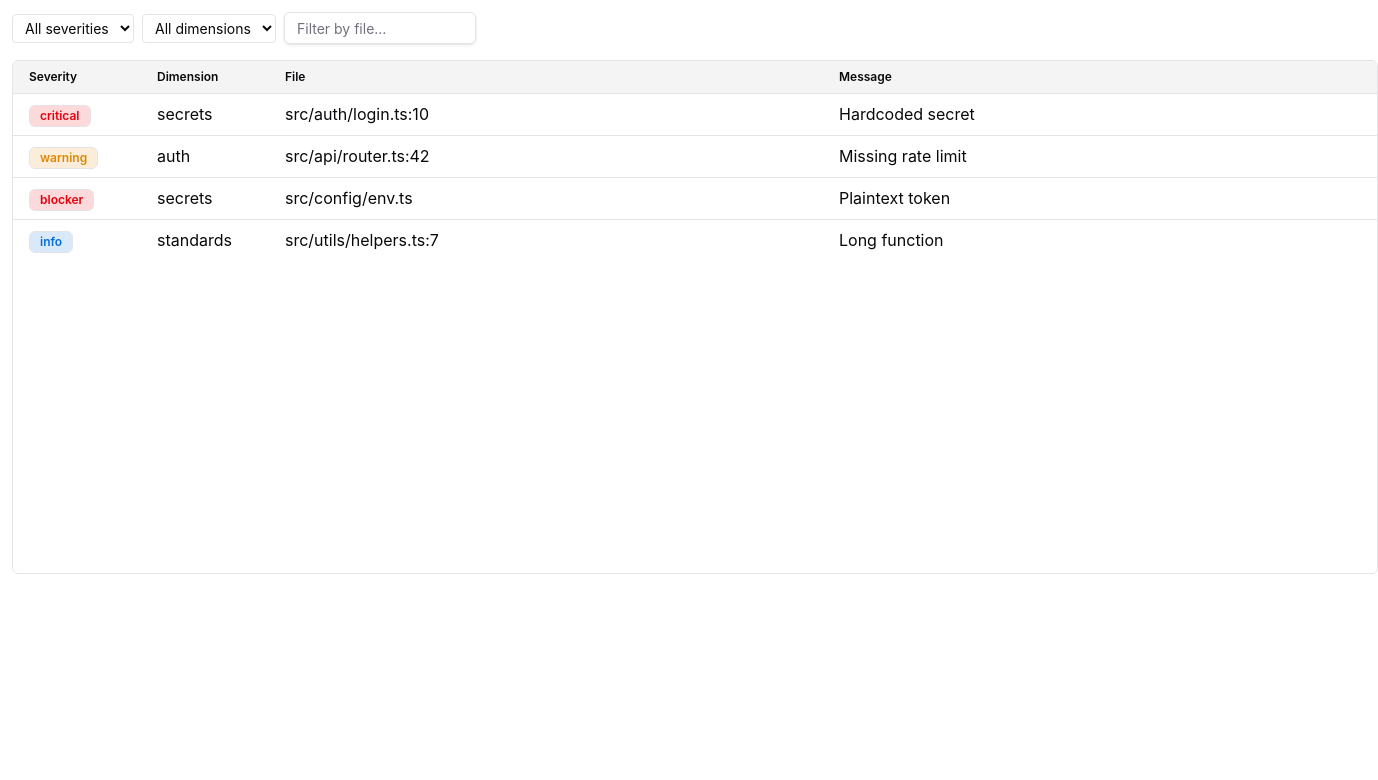
FindingsTable › resets to all rows when severity is cleared back to All
Select "warning" in the dropdown named "severity": (73, 28) [12,14,134,42]
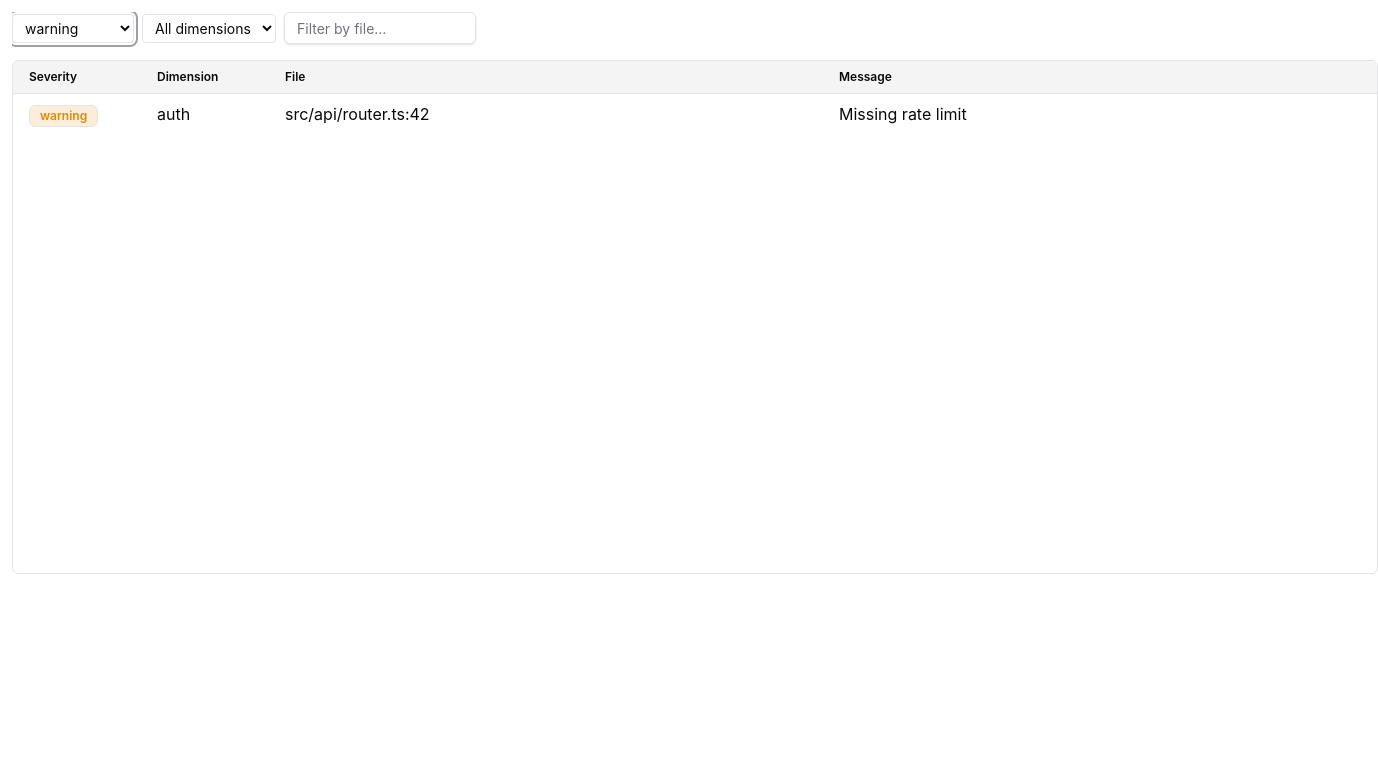
Now the text "Hardcoded secret" is gone
Select "All severities" in the dropdown named "severity": (73, 28) [12,14,134,42]
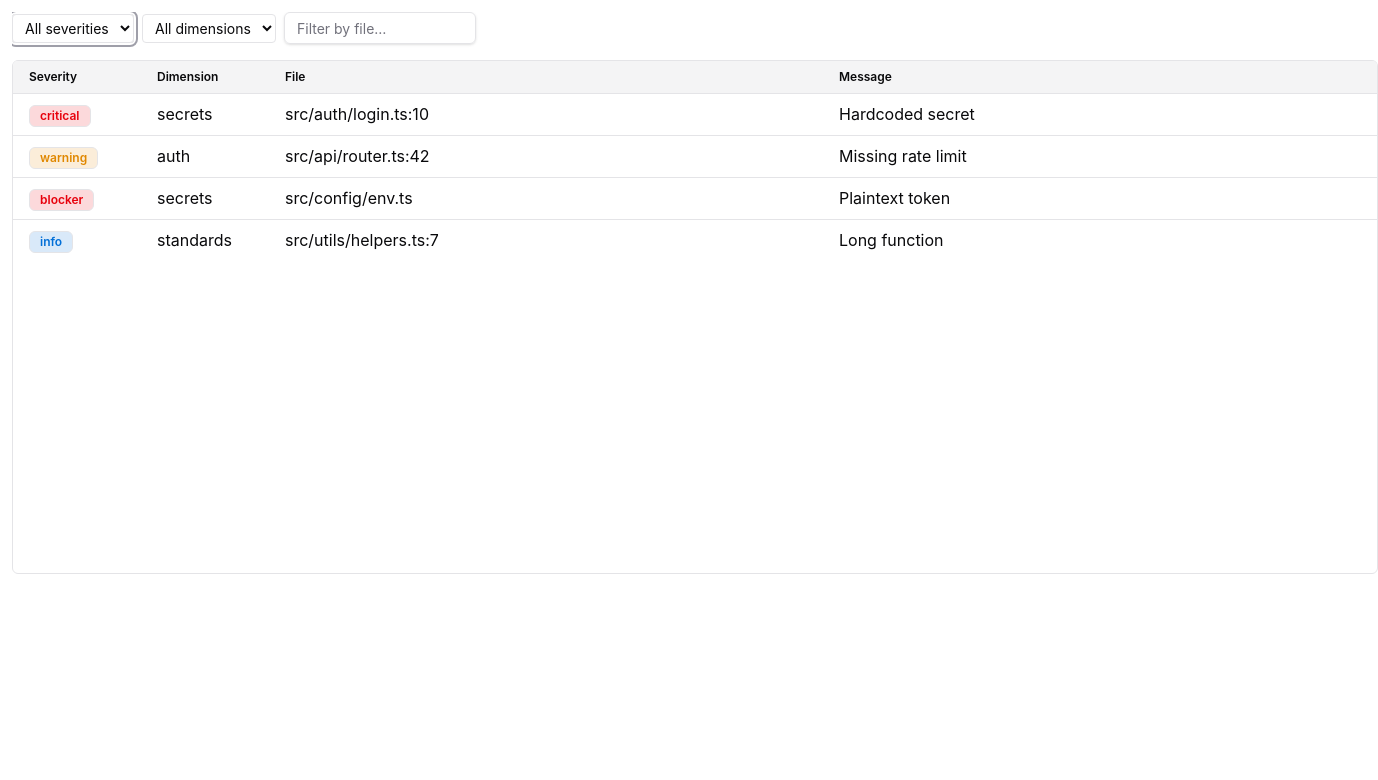
Expected: the text "Missing rate limit" is shown, [839,146,967,166]
Now the text "Hardcoded secret" is shown, box [839,104,975,124]
